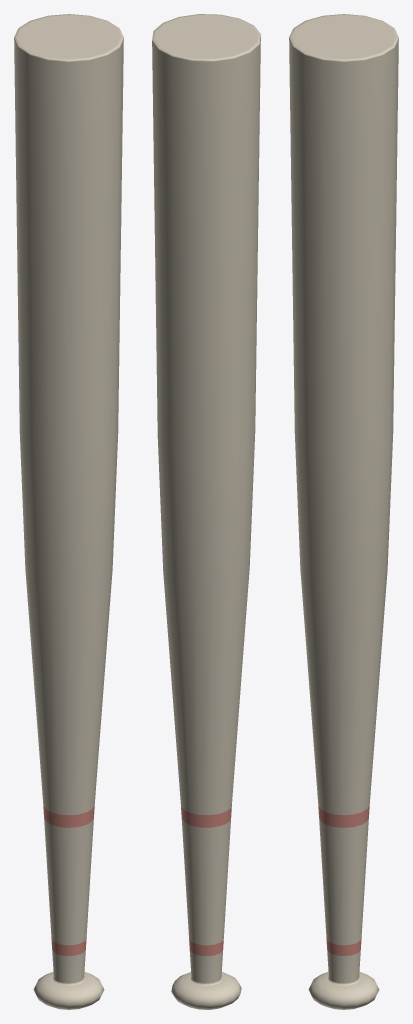
The model's file is Bat.fbx.
The picture shows the model from 3 angles, left to right: view 1: azimuth 90°, elevation 25°; view 2: azimuth 210°, elevation 25°; view 3: azimuth 270°, elevation 25°; orthographic projection.
Parts seen in each view (by area): view 1: Sphere; view 2: Sphere; view 3: Sphere.
Part boxes in pixels (x1,y1,x2,y2): Sphere: (14,14,123,1009); Sphere: (152,14,260,1009); Sphere: (289,14,398,1009).
Size of the model in its own units: 0.1903 by 1.85 by 0.1903.
